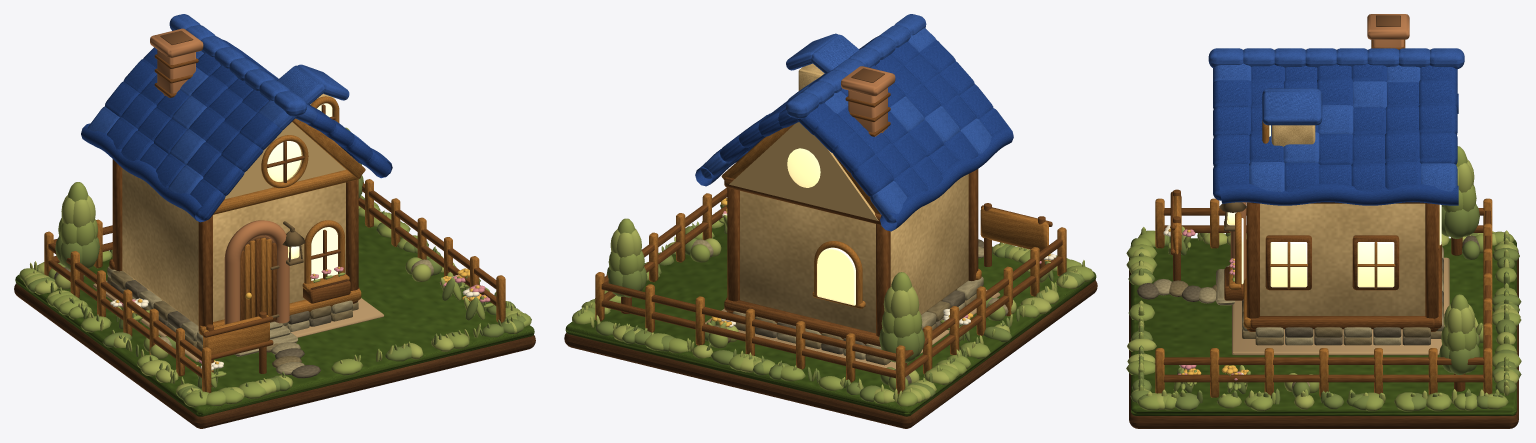
File: stage-4.glb
3 renders of one model, left to right at view 1: azimuth 30°, elevation 25°; view 2: azimuth 150°, elevation 25°; view 3: azimuth 270°, elevation 25°, orthographic. The views are drawn at different scales.
Visible parts, largest first — view 1: Surface_Moss lawn, Surface_Felt blue, Surface_Warm lime plaster, Surface_Golden end grain, Surface_Honey wood, Surface_Felt blue highlight, Surface_Ochre earth, Surface_Foliage 1, Surface_Terracotta, Surface_Foliage 2, Surface_Foliage 0, Surface_Stone 1 (+5 smaller); view 2: Surface_Warm lime plaster, Surface_Felt blue, Surface_Honey wood, Surface_Moss lawn, Surface_Golden end grain, Surface_Felt blue highlight, Surface_Foliage 1, Surface_Ochre earth, Surface_Foliage 0, Surface_Foliage 2, Surface_Warm window, Surface_Terracotta (+4 smaller); view 3: Surface_Felt blue, Surface_Moss lawn, Surface_Honey wood, Surface_Warm lime plaster, Surface_Felt blue highlight, Surface_Foliage 1, Surface_Golden end grain, Surface_Foliage 0, Surface_Ochre earth, Surface_Foliage 2, Surface_Warm window, Surface_Garden soil (+4 smaller).
Boxes of the visible parts, x1,y1,x2,y2 form: Surface_Moss lawn: (15,216,534,416); Surface_Felt blue: (81,30,392,222); Surface_Warm lime plaster: (122,93,345,325); Surface_Golden end grain: (44,96,505,392); Surface_Honey wood: (48,54,496,386); Surface_Felt blue highlight: (87,14,370,193); Surface_Ochre earth: (14,279,535,428); Surface_Foliage 1: (19,127,531,407); Surface_Terracotta: (150,28,289,324); Surface_Foliage 2: (23,195,522,397); Surface_Foliage 0: (27,175,526,400); Surface_Stone 1: (107,259,433,375); Surface_Warm lime plaster: (729,63,968,333); Surface_Felt blue: (695,35,1013,231); Surface_Honey wood: (601,92,1062,378); Surface_Moss lawn: (565,224,1096,416); Surface_Golden end grain: (595,124,1066,394); Surface_Felt blue highlight: (701,14,991,223); Surface_Foliage 1: (572,215,1094,406); Surface_Ochre earth: (564,280,1097,428); Surface_Foliage 0: (578,204,1084,401); Surface_Foliage 2: (584,212,1080,403); Surface_Warm window: (787,148,855,305); Surface_Terracotta: (841,66,895,136); Surface_Felt blue: (1213,63,1458,205); Surface_Moss lawn: (1131,238,1516,415); Surface_Honey wood: (1163,39,1490,391); Surface_Warm lime plaster: (1260,125,1425,315); Surface_Felt blue highlight: (1208,48,1464,192); Surface_Foliage 1: (1126,146,1521,411); Surface_Golden end grain: (1155,120,1492,397); Surface_Foliage 0: (1128,204,1521,410); Surface_Ochre earth: (1129,251,1518,428); Surface_Foliage 2: (1127,159,1520,409); Surface_Warm window: (1227,125,1441,287); Surface_Garden soil: (1232,257,1449,355).
Bounding box in the file's own units: 7.38 × 5.68 × 7.
21 materials, 10 textured.
